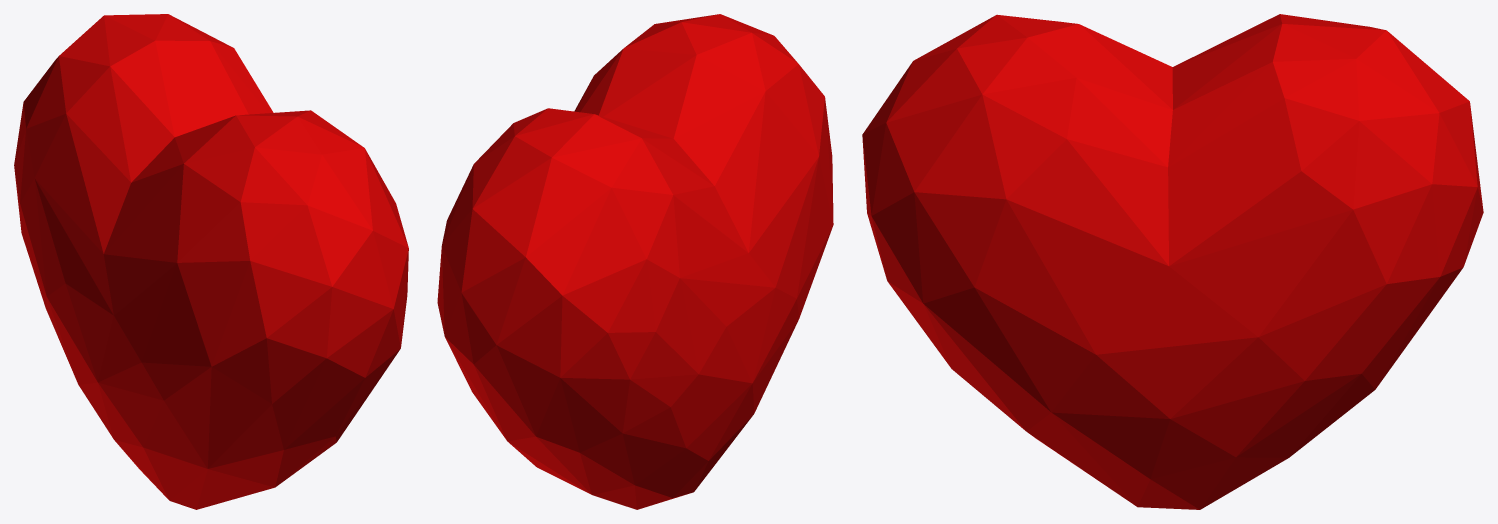
The model's file is love.fbx.
3 renders of one model, left to right at view 1: azimuth 30°, elevation 25°; view 2: azimuth 150°, elevation 25°; view 3: azimuth 270°, elevation 25°, orthographic. The views are drawn at different scales.
Visible parts, largest first — view 1: Love; view 2: Love; view 3: Love.
Boxes of the visible parts, box(x1,y1,x2,y2) form: Love: box(14, 14, 408, 509); Love: box(437, 14, 833, 509); Love: box(862, 14, 1483, 509).
Bounding box in the file's own units: 12.12 × 20.55 × 24.59.
